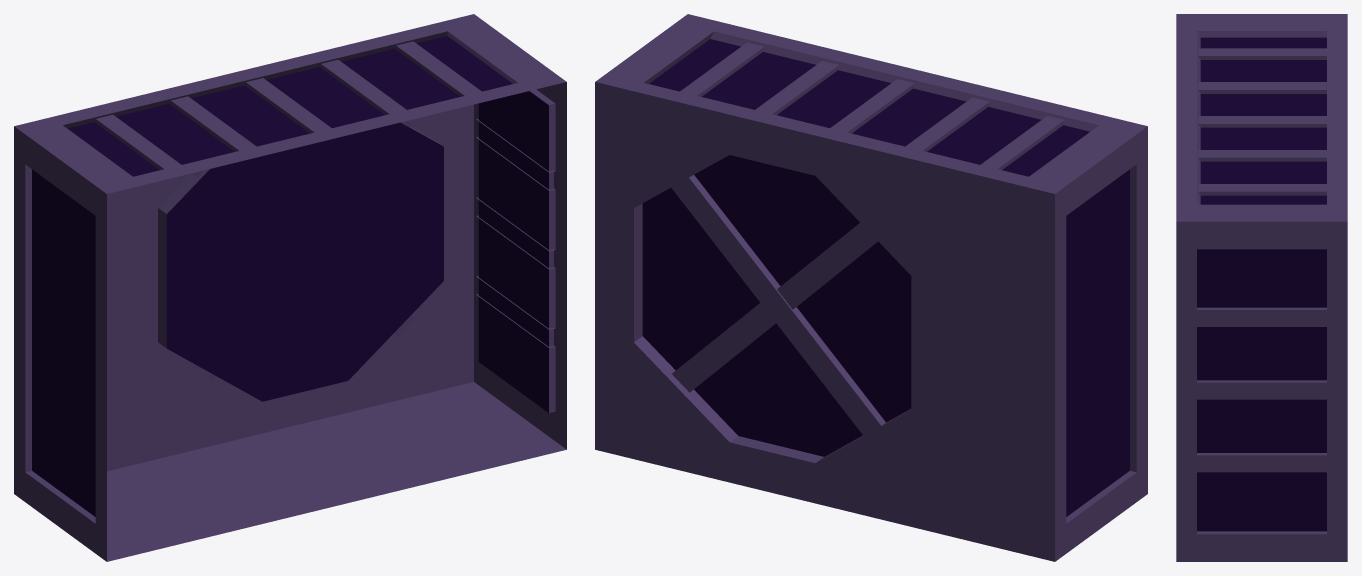
Rendered from FanBig.fbx.
The picture shows the model from 3 angles, left to right: view 1: azimuth 30°, elevation 25°; view 2: azimuth 150°, elevation 25°; view 3: azimuth 270°, elevation 25°; orthographic projection. The views are drawn at different scales.
Visible parts, largest first — view 1: Cube; view 2: Cube; view 3: Cube.
Boxes of the visible parts, x1,y1,x2,y2 form: Cube: (14,14,566,561); Cube: (595,14,1147,561); Cube: (1176,14,1347,561).
Size of the model in its own units: 612 by 468 by 214.
